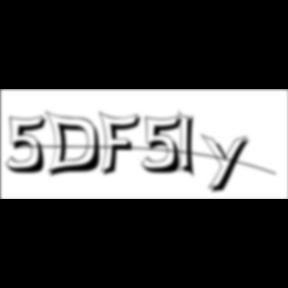5: (6, 114, 53, 176), (142, 114, 188, 176)
D: (44, 110, 108, 180)
F: (99, 110, 147, 178)
l: (180, 108, 202, 182)
y: (201, 132, 255, 196)
